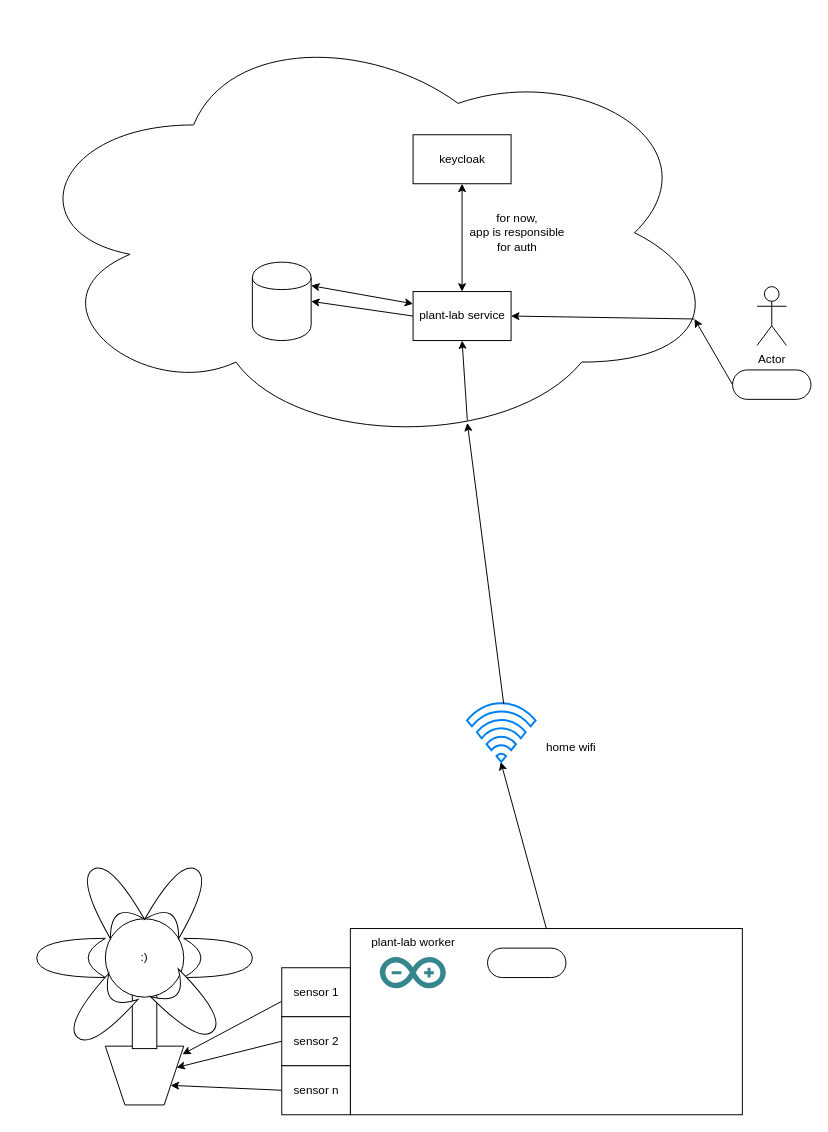
This 828x1132 diagram has some shape labels left out. Each missing label, with the centre of its shape:
collect stats: (526,962)
get stats: (771,384)
plant-lab-db: (281,301)
